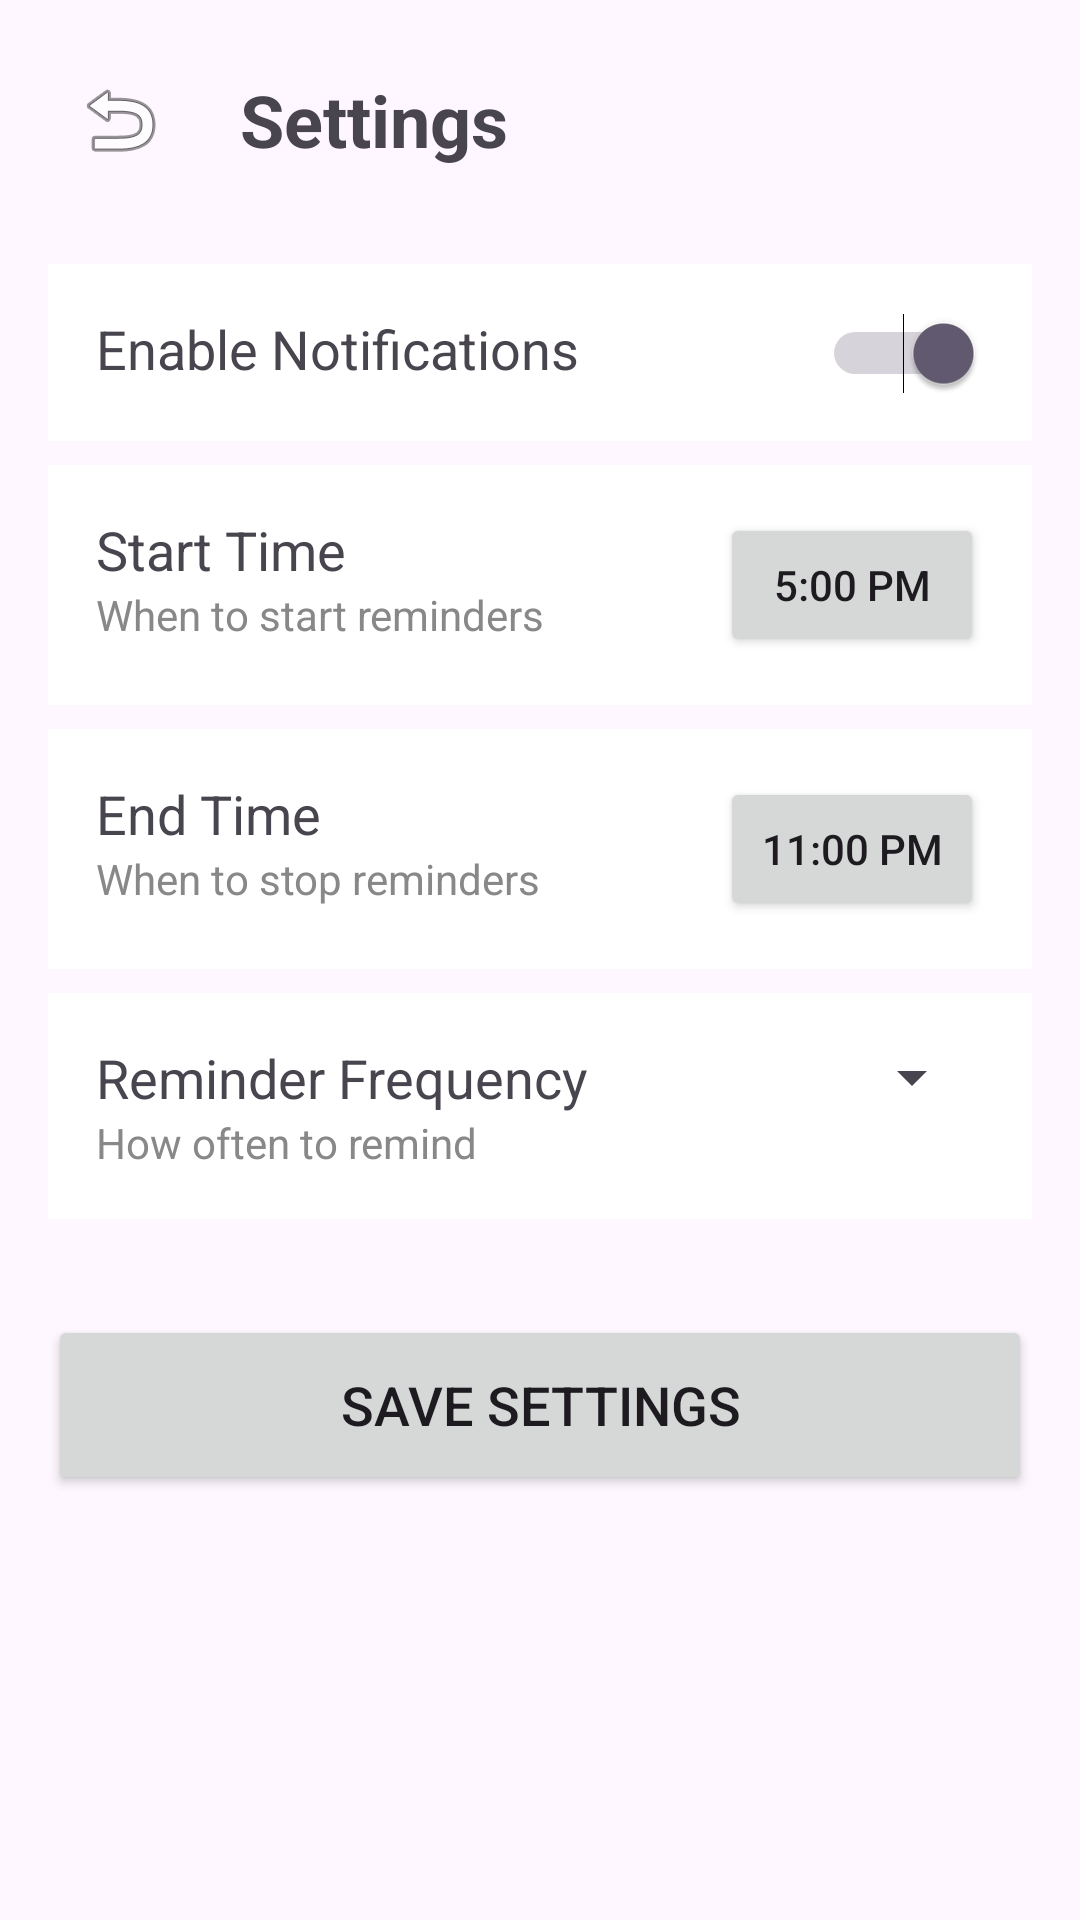

Point at icon controls on the screen. Image size 1080px x 1920px, points as (x=x, y=y).
Back: (x=121, y=120)
